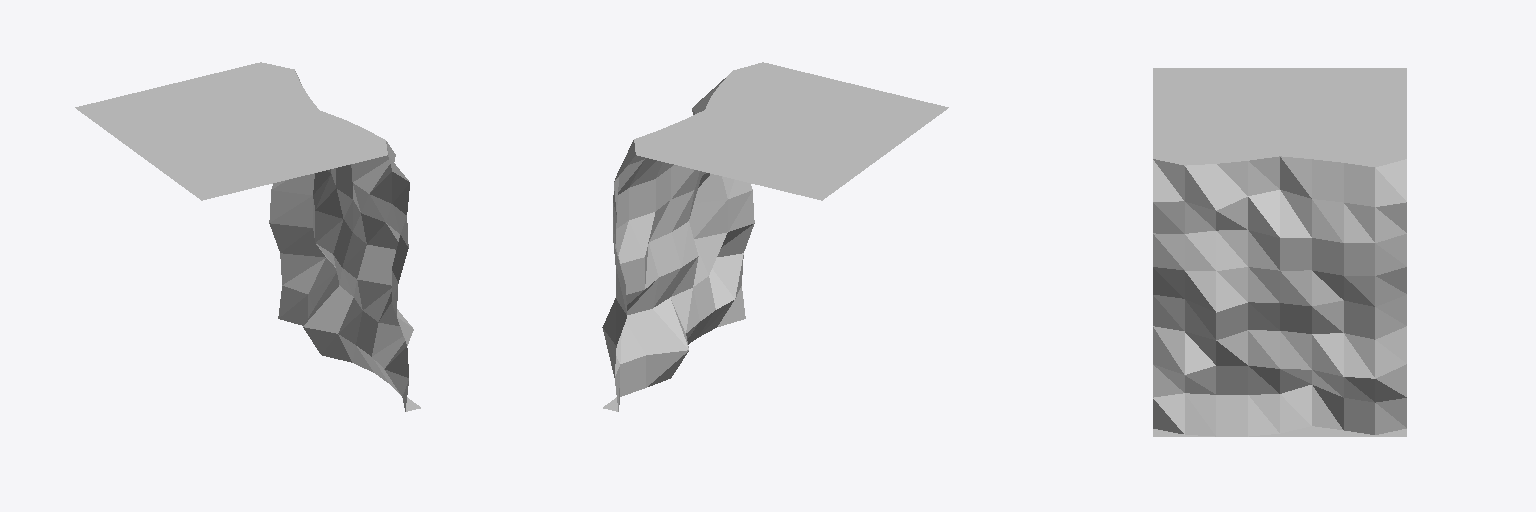
Rendered from dirt_one_sided_03.obj.
3 views of the same model, side by side, from view 1: azimuth 30°, elevation 25°; view 2: azimuth 150°, elevation 25°; view 3: azimuth 270°, elevation 25° (orthographic).
Visible parts, largest first — view 1: dirt_one_sided_03.obj; view 2: dirt_one_sided_03.obj; view 3: dirt_one_sided_03.obj.
Boxes of the visible parts, x1,y1,x2,y2 form: dirt_one_sided_03.obj: [75, 62, 420, 411]; dirt_one_sided_03.obj: [602, 62, 948, 411]; dirt_one_sided_03.obj: [1153, 68, 1406, 436].
Size of the model in its own units: 2.67 by 2.83 by 2.5.